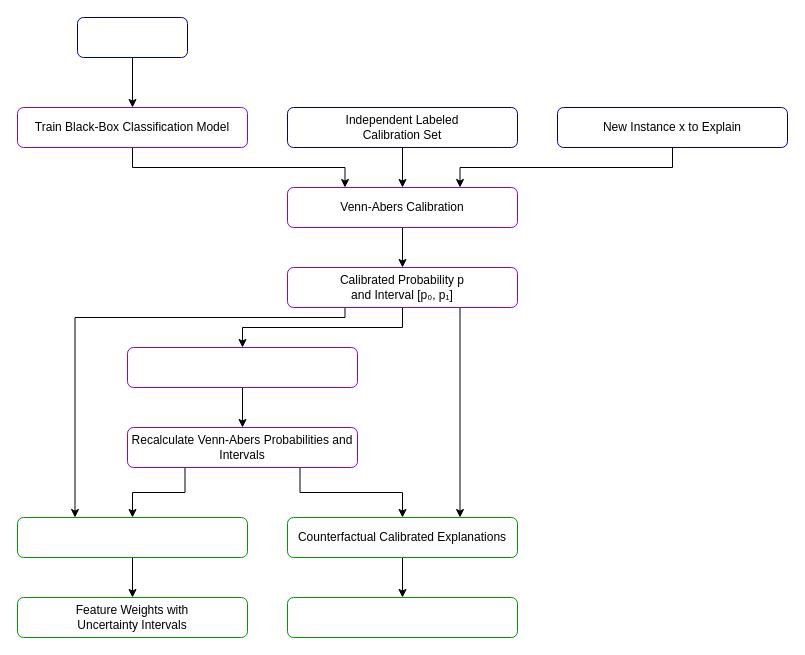
Image size: 805x655. Some labels were removed from this diagram. Each missing label, with the box of its shape:
Alternative Feature Conditionswith Probability Intervals: (286, 596, 518, 638)
Factual Calibrated Explanations: (16, 516, 248, 558)
Proper Training Dataset: (76, 16, 188, 58)
Systematic Feature Perturbations and Conditional Rules: (126, 346, 358, 388)
